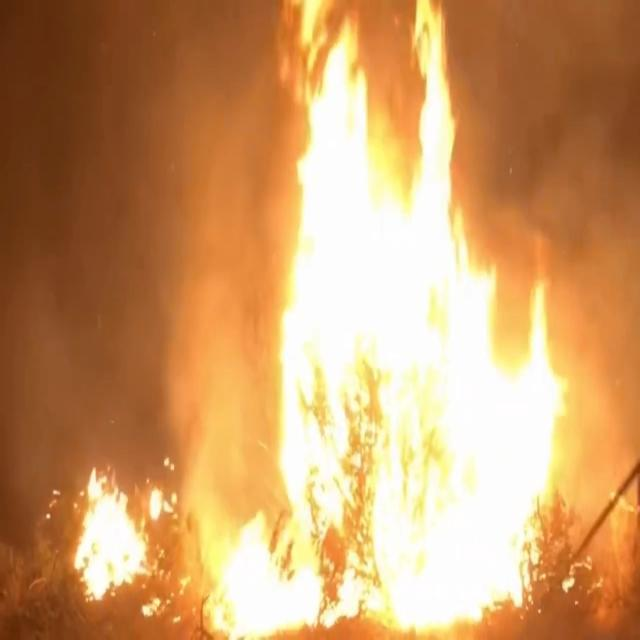Fire: (70, 0, 558, 634)
